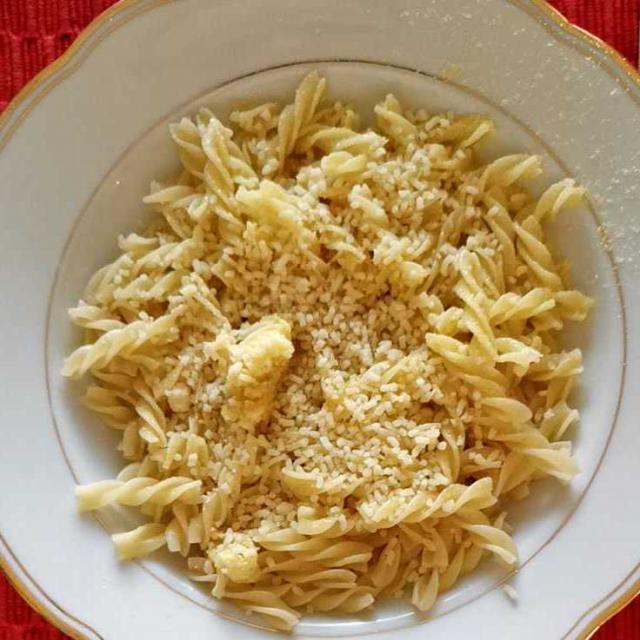cheese: (92, 106, 479, 578)
pasta-twist: (69, 89, 584, 613)
